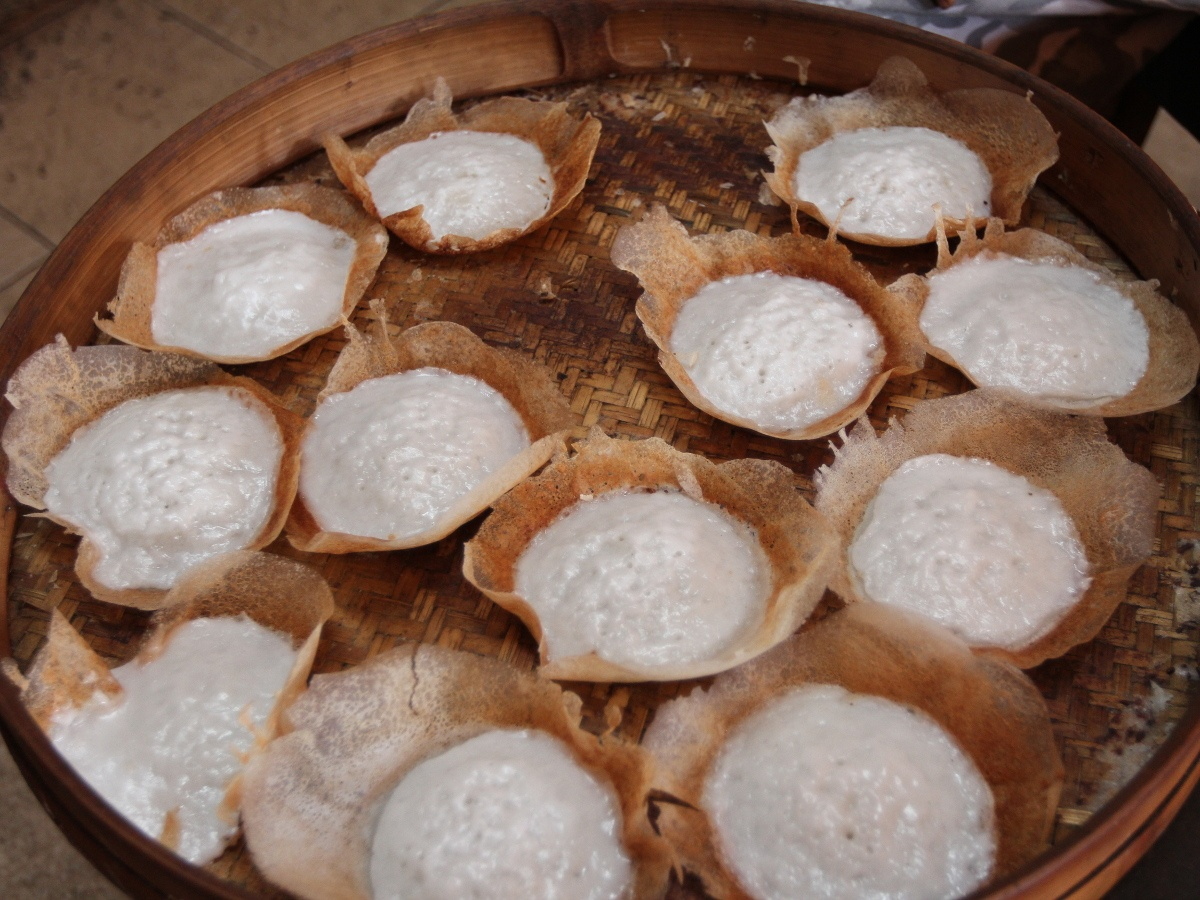srabi: (237, 645, 661, 900), (472, 434, 835, 687), (809, 417, 1154, 660), (6, 333, 289, 593), (262, 326, 554, 545), (88, 155, 391, 358), (625, 235, 907, 441), (906, 233, 1198, 417), (787, 61, 1046, 253), (337, 96, 619, 250)
